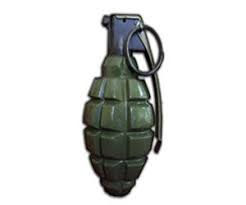e1: (83, 13, 168, 199)
